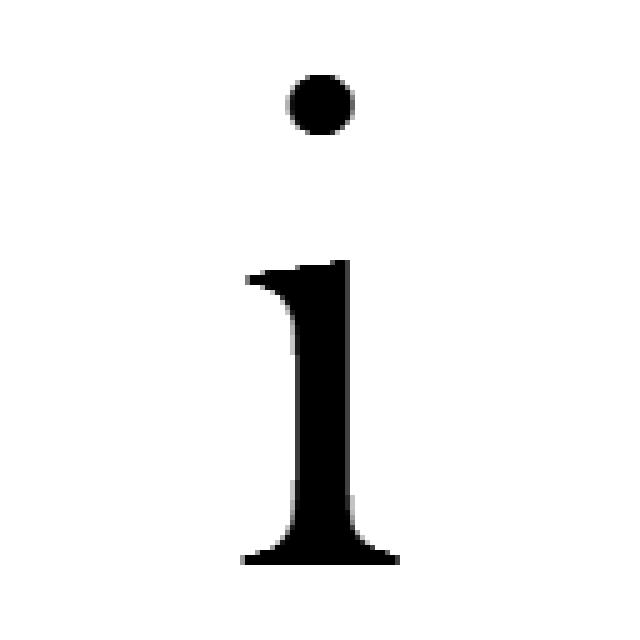I: (225, 73, 412, 574)
